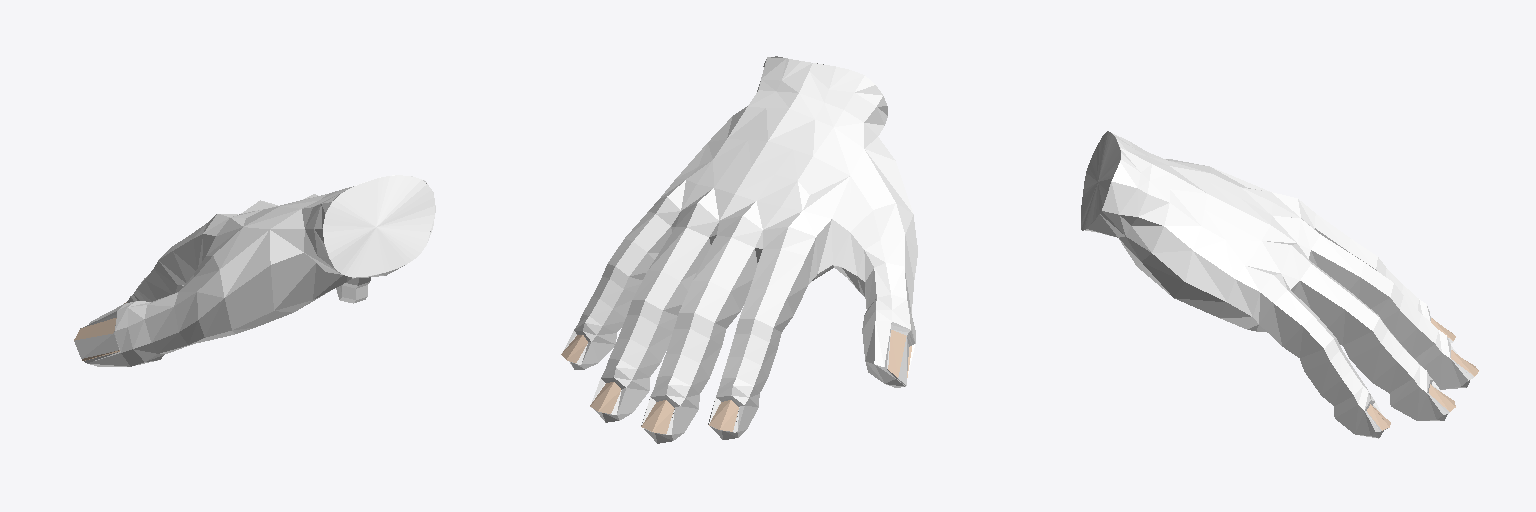
Rendered from hand_right.obj.
3 views of the same model, side by side, from view 1: azimuth 30°, elevation 25°; view 2: azimuth 150°, elevation 25°; view 3: azimuth 270°, elevation 25° (orthographic).
Visible parts, largest first — view 1: polymsh1; view 2: polymsh1; view 3: polymsh1.
Part boxes in pixels (left/top/right/bottom): polymsh1: left=74, top=175, right=435, bottom=366; polymsh1: left=561, top=56, right=917, bottom=443; polymsh1: left=1081, top=131, right=1478, bottom=438.
Size of the model in its own units: 260 by 200 by 286.